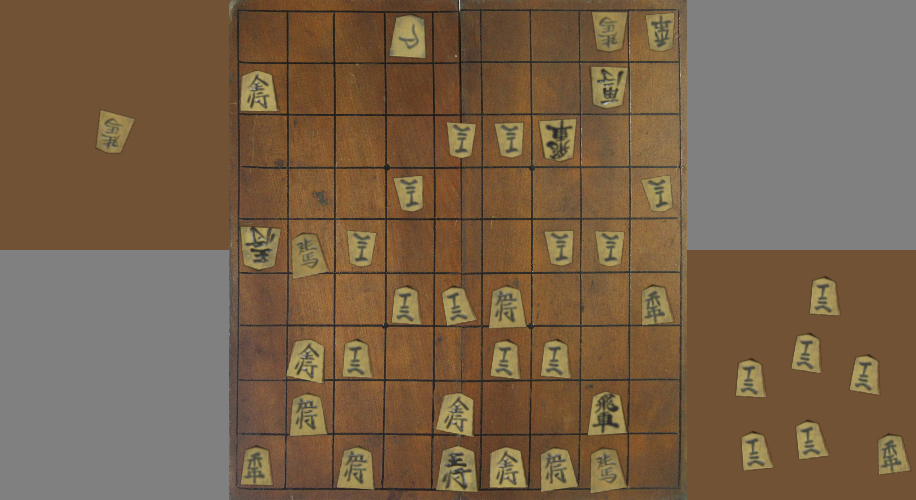A: (481, 273, 534, 330), (578, 434, 629, 493), (288, 218, 335, 280), (480, 325, 532, 381), (287, 325, 335, 383), (580, 218, 630, 273), (579, 380, 628, 436), (529, 436, 578, 492), (531, 324, 579, 381), (335, 433, 383, 490), (630, 273, 680, 327), (532, 218, 581, 273), (433, 381, 481, 437), (237, 433, 285, 489), (384, 273, 434, 326), (434, 273, 482, 327), (286, 380, 333, 435), (238, 61, 288, 112), (337, 325, 384, 379), (483, 435, 529, 489), (384, 14, 433, 63)
B: (238, 218, 289, 273), (481, 114, 532, 166), (630, 167, 681, 218), (628, 10, 678, 62), (533, 113, 582, 166), (337, 218, 386, 271), (580, 62, 629, 113), (579, 11, 628, 61), (387, 166, 434, 218), (436, 114, 481, 167)
C: (806, 273, 843, 323), (791, 418, 832, 460), (872, 432, 913, 474), (737, 428, 777, 471), (732, 355, 770, 399), (846, 353, 883, 396), (791, 331, 824, 372)
D: (93, 108, 135, 156)
